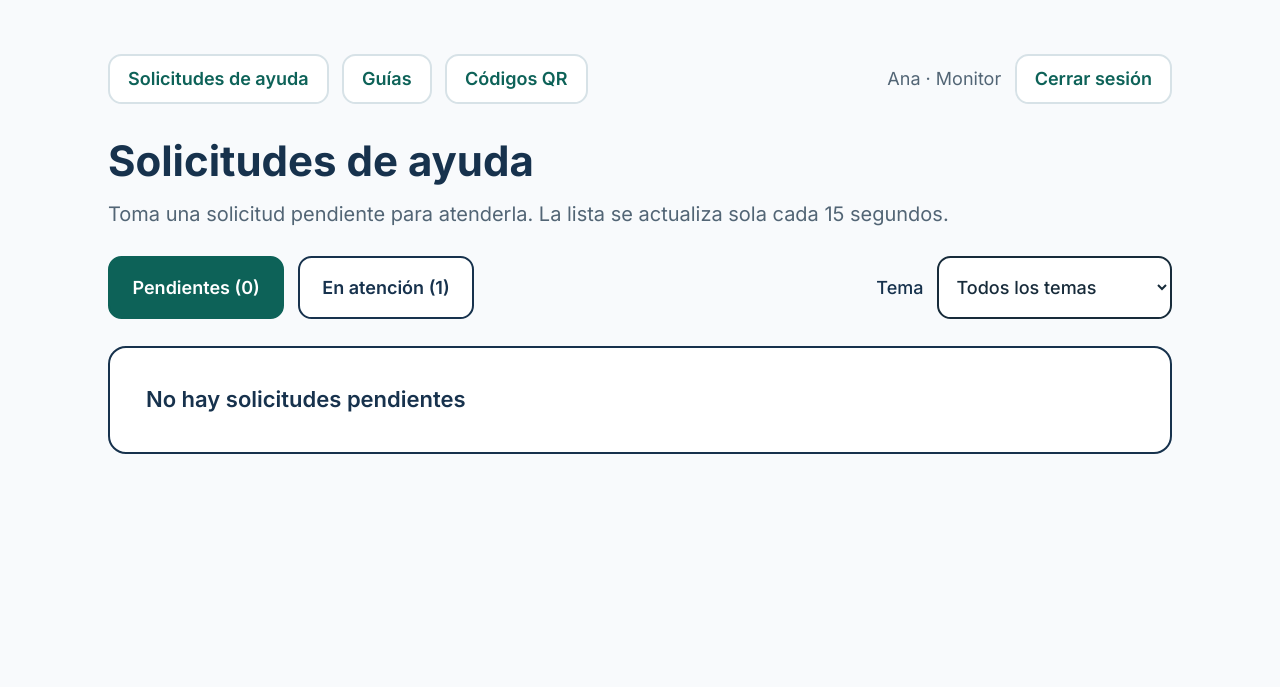
ColaSolicitudesPage › resolver solicitud › éxito solo tras confirmar el servidor; un único envío; refresca
The image size is (1280, 687).
Check: the text "No hay solicitudes pendientes" is shown, box [108,346,1172,454]
Click the button "En atención (1)". click: (386, 288)
box: [298,256,474,319]
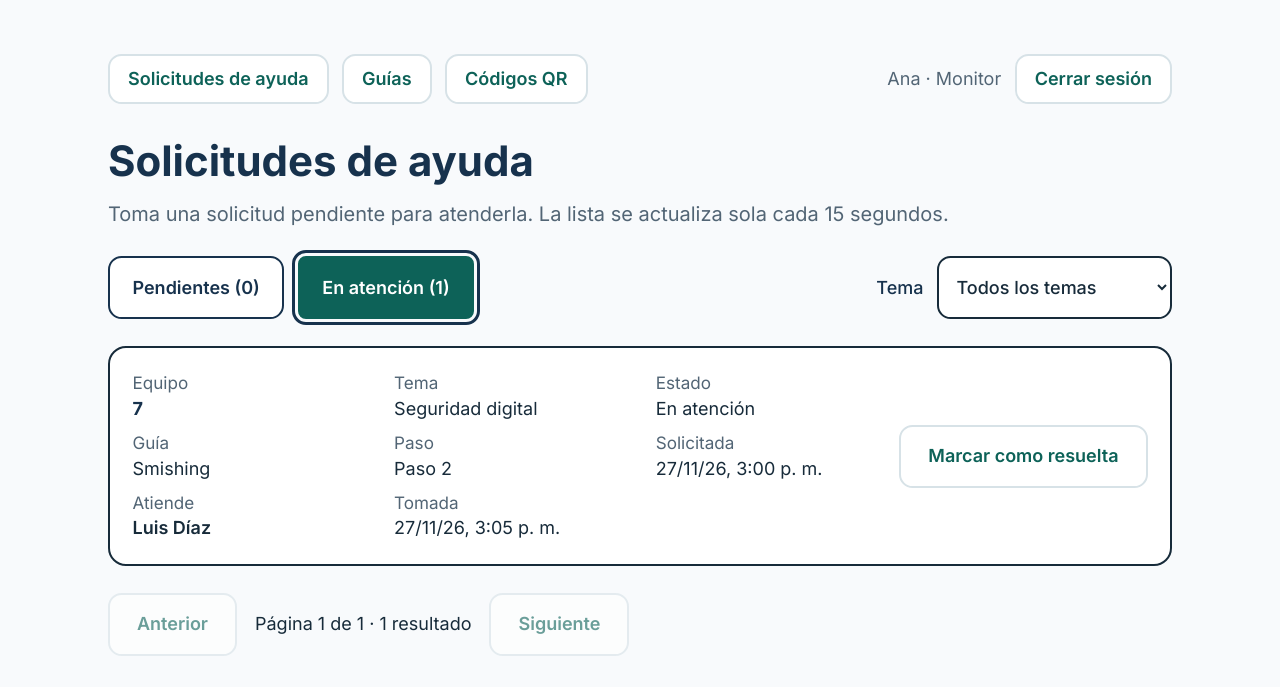
Click the button "Marcar como resuelta". click: (1023, 456)
box: [899,425,1148,488]
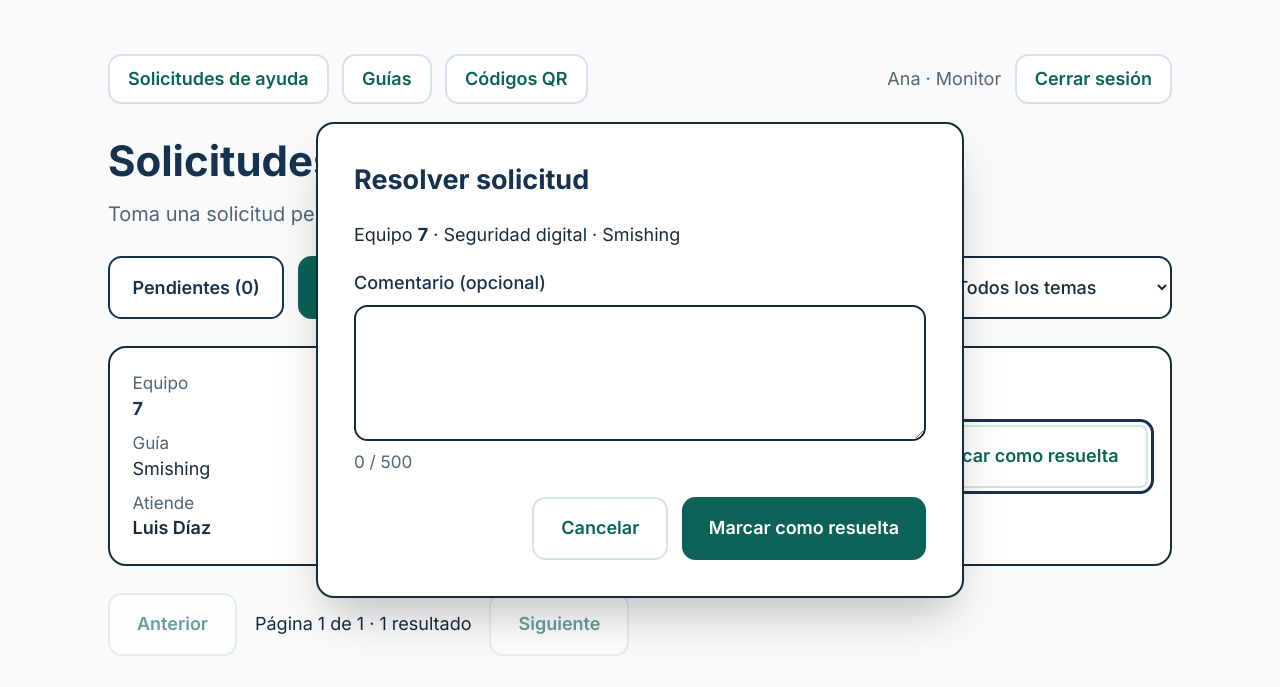
Type "Se explicó" into the text box labelled "Comentario (opcional) 0 / 500". click: (640, 373)
box: [354,305,926,441]
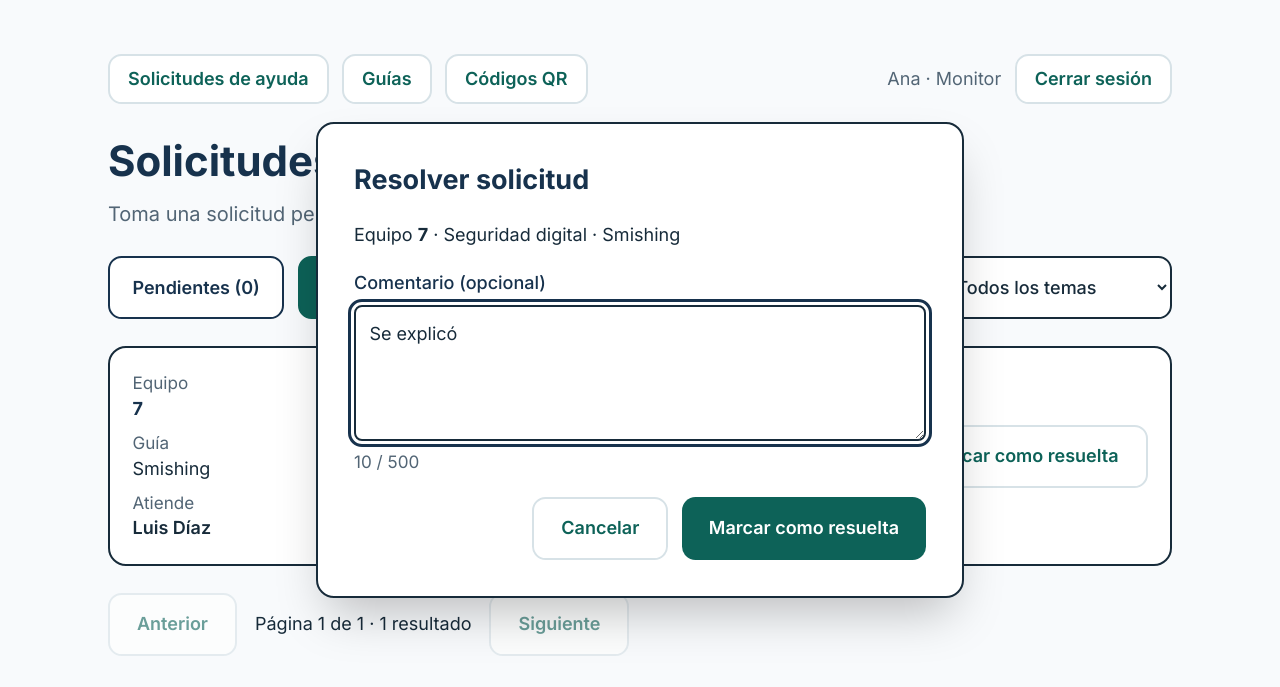
Double-click the button "Marcar como resuelta" below "Comentario (opcional)" at (804, 528), box [682,497,926,560]
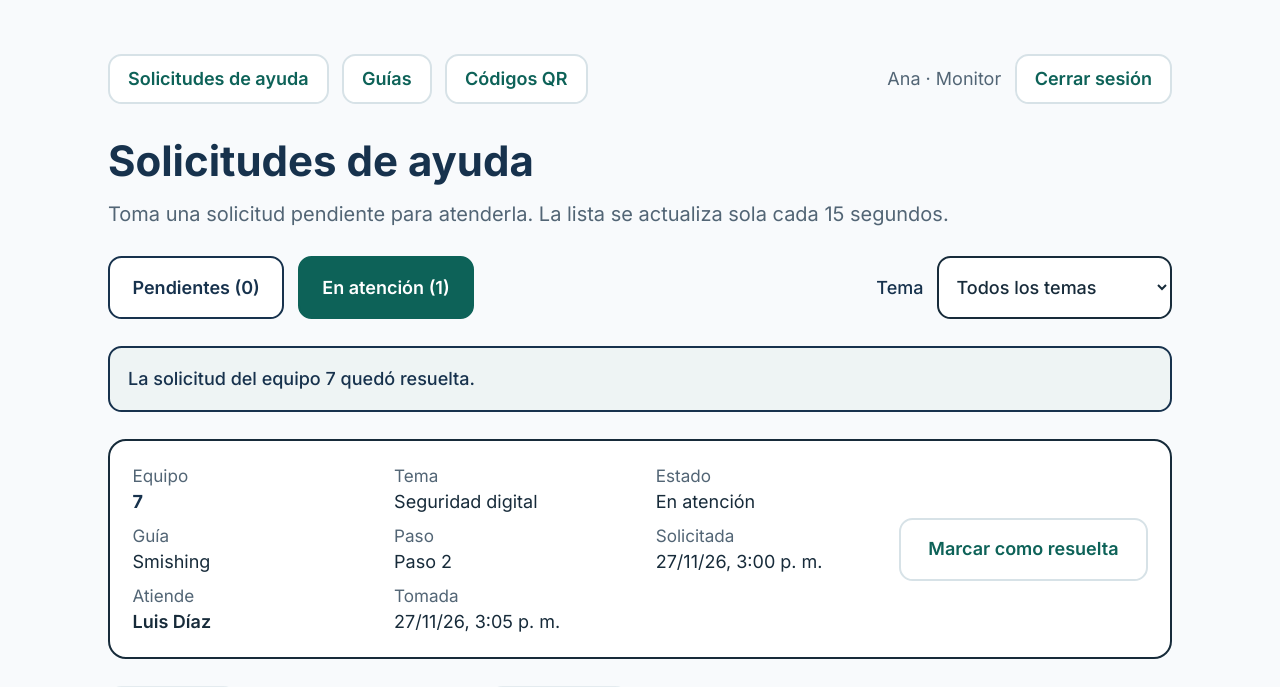
Check: the text "La solicitud del equipo 7 quedó resuelta." is shown, box [108,346,1172,412]
Check: the dialog is gone
